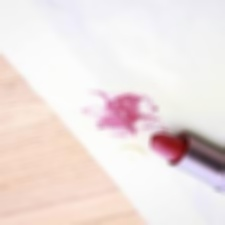lipstick: (80, 86, 168, 136)
